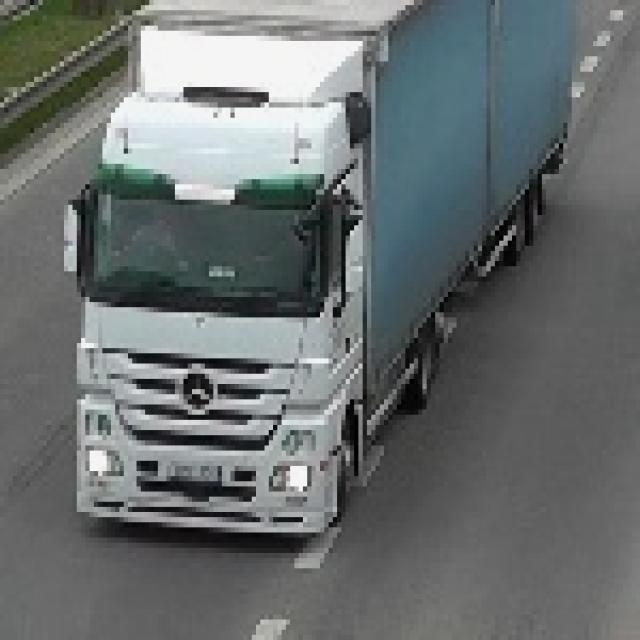TRUCK: (81, 0, 576, 538)
